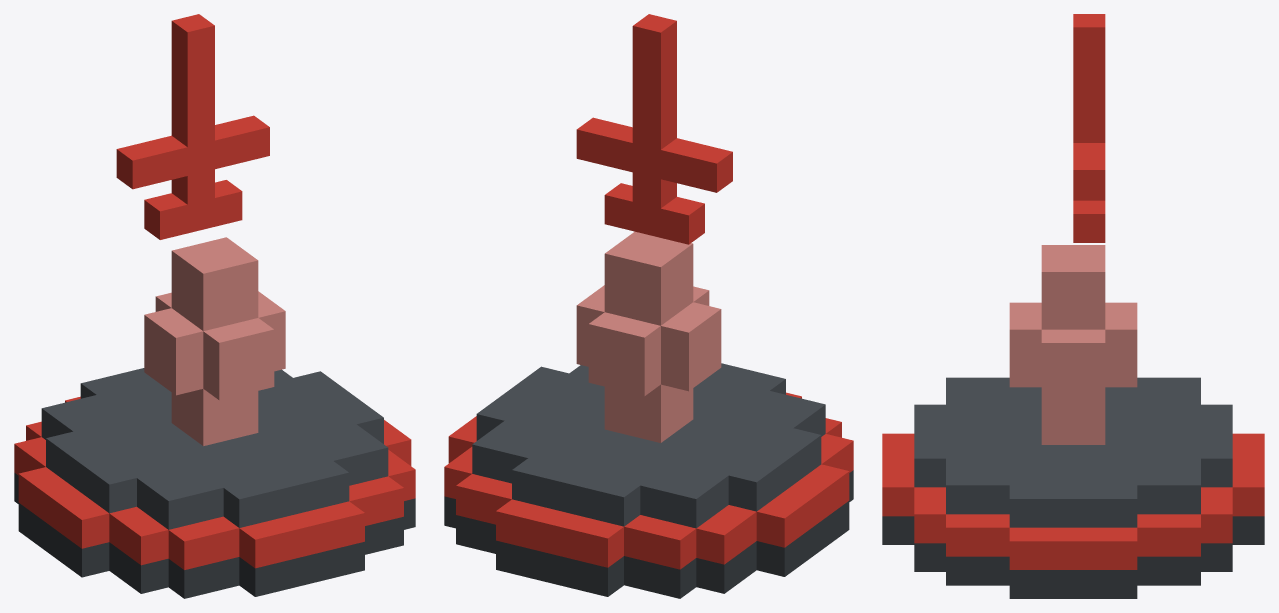
The model's file is prop_buff_damage.glb.
The picture shows the model from 3 angles, left to right: view 1: azimuth 30°, elevation 25°; view 2: azimuth 150°, elevation 25°; view 3: azimuth 270°, elevation 25°; orthographic projection. The views are drawn at different scales.
Parts seen in each view (by area): view 1: prop_buff_damage; view 2: prop_buff_damage; view 3: prop_buff_damage.
Boxes of the visible parts, x1=… form: prop_buff_damage: x1=14, y1=14, x2=415, y2=598; prop_buff_damage: x1=444, y1=14, x2=853, y2=598; prop_buff_damage: x1=882, y1=14, x2=1264, y2=598.
Bounding box in the file's own units: 0.6 × 0.85 × 0.6.
